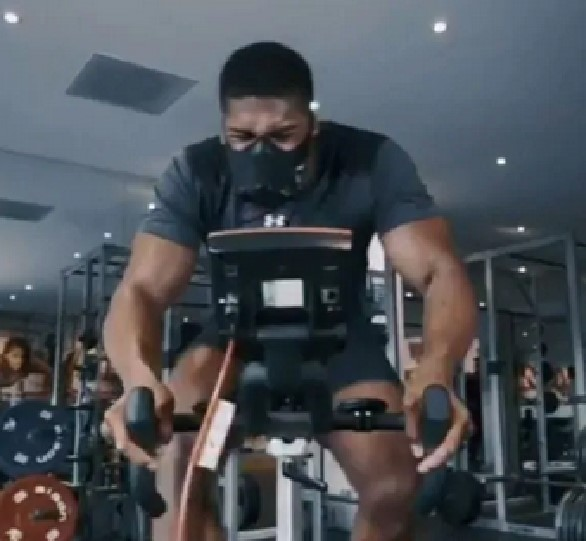face_with_mask: (215, 48, 316, 204)
